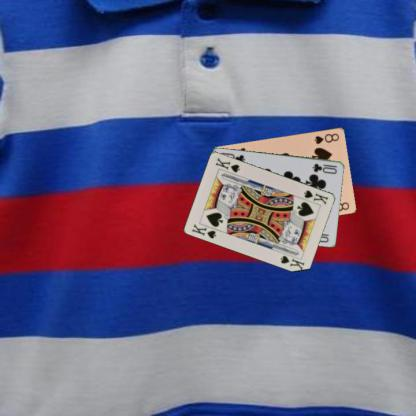10c: (310, 161, 338, 175)
8s: (312, 131, 340, 145)
Ks: (189, 221, 218, 240), (302, 187, 329, 206)
